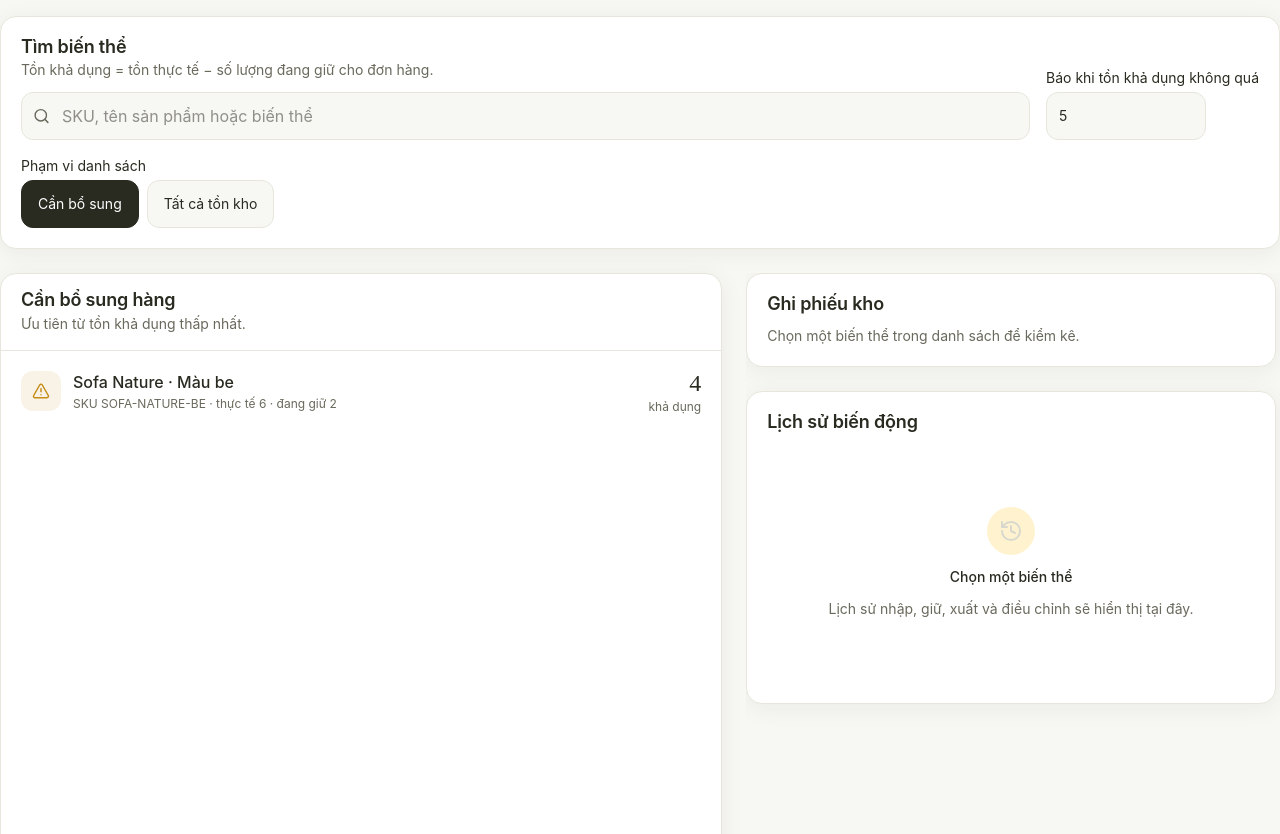
Test: AdminInventoryPage › announces when pagination clears a selection missing from the returned page
Click the button "Sofa Nature" at (41, 391), box 1,351 -> 721,431
(page scrolled)
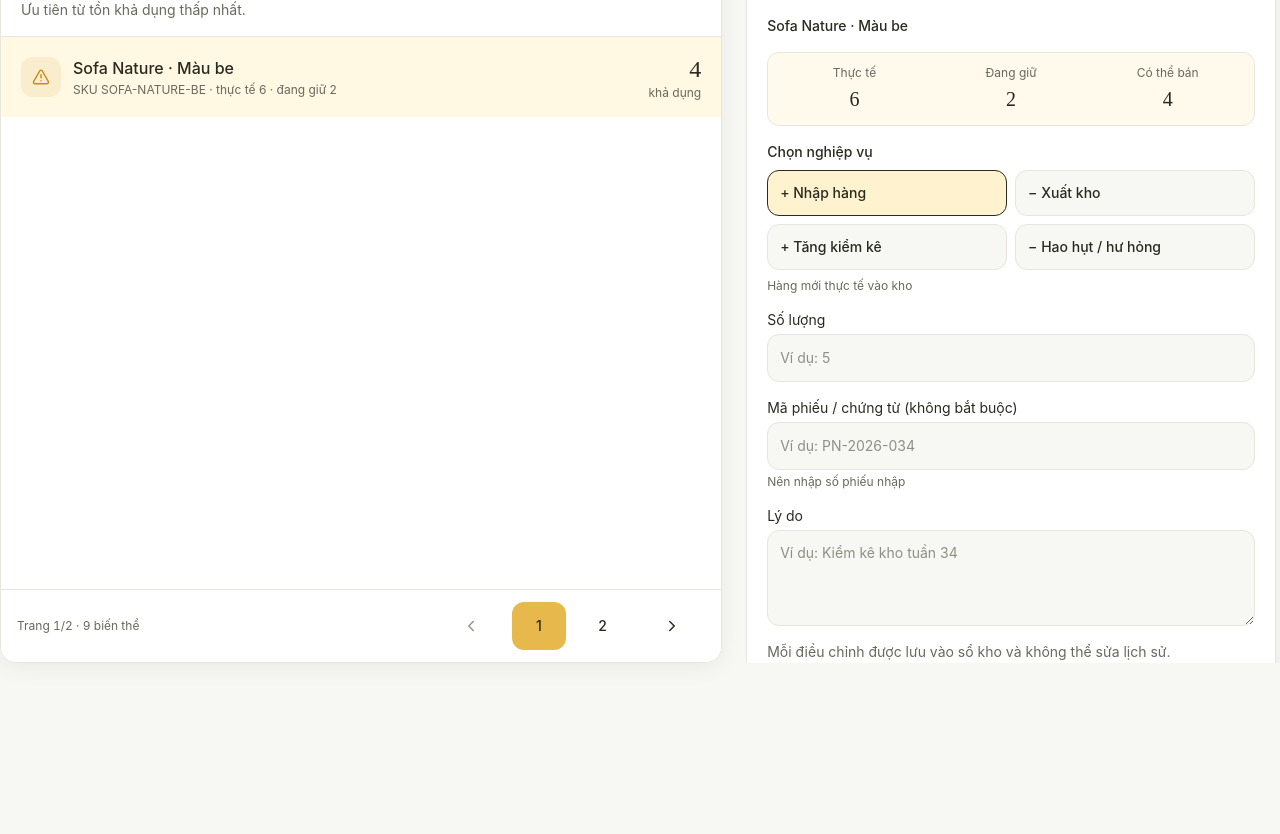
Click the button named "Trang sau" at (672, 626), box 639,602 -> 705,650
(page scrolled)
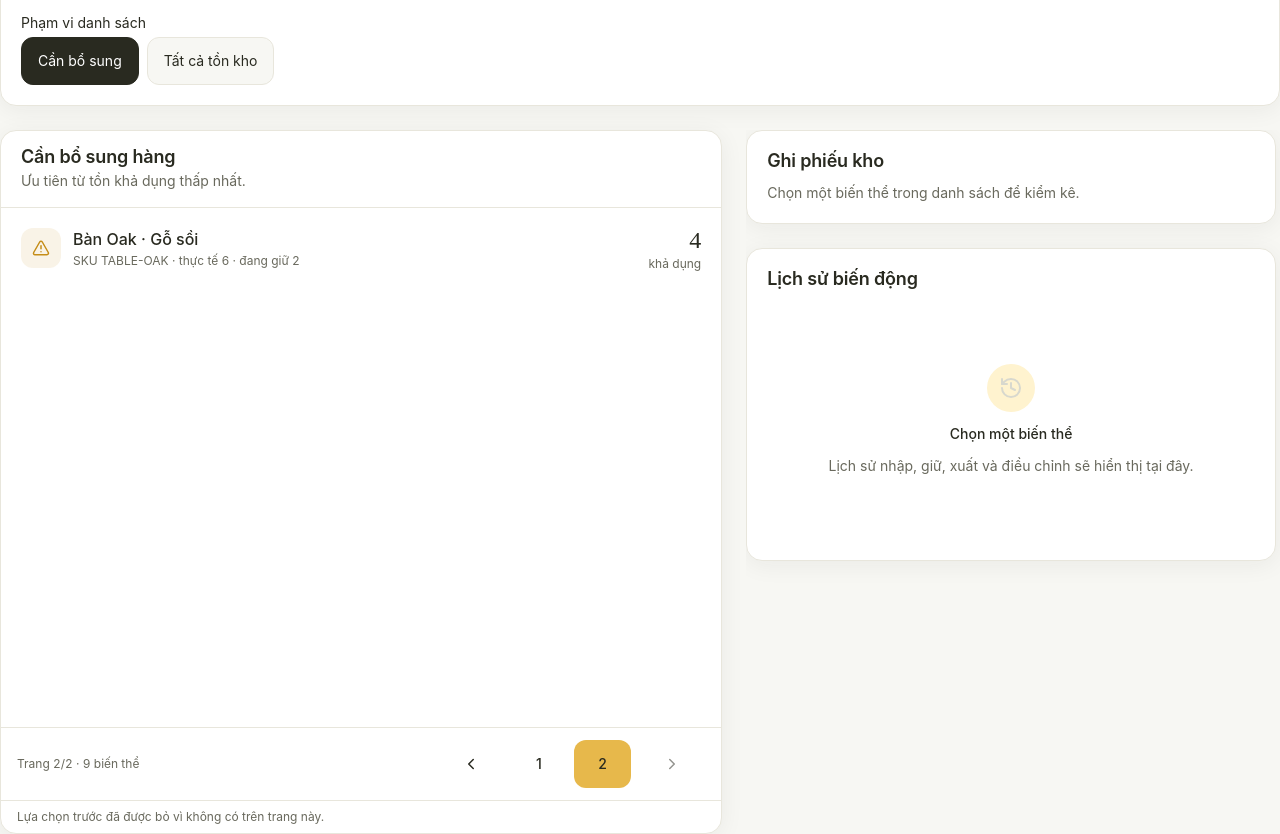
Check: the text "Lựa chọn trước đã được bỏ vì không có trên trang này." is shown, box 1,800 -> 721,833
Check: the text "Chọn một biến thể trong danh sách để kiểm kê." is shown, box 767,184 -> 1080,201
